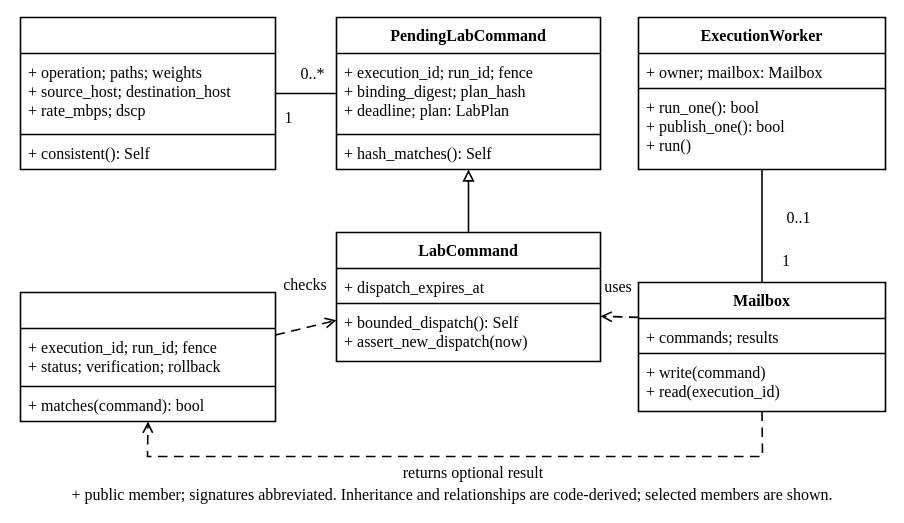
The diagram is 904 pixels wide and 523 high, and some of its shapes have lost their labels. Here are the shapes that lost their labels. From the top down, the box of each, then its label:
(19, 16, 276, 170): LabPlan
(19, 291, 276, 422): LabResult
